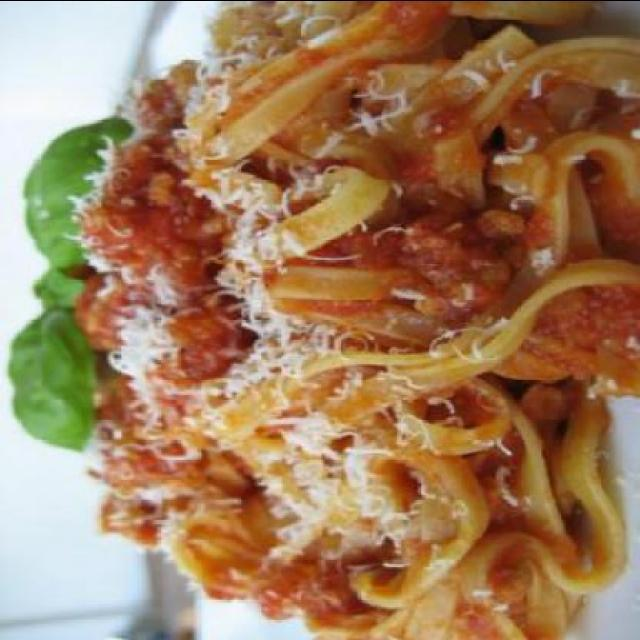Pasta al ragu: (24, 12, 604, 590)
